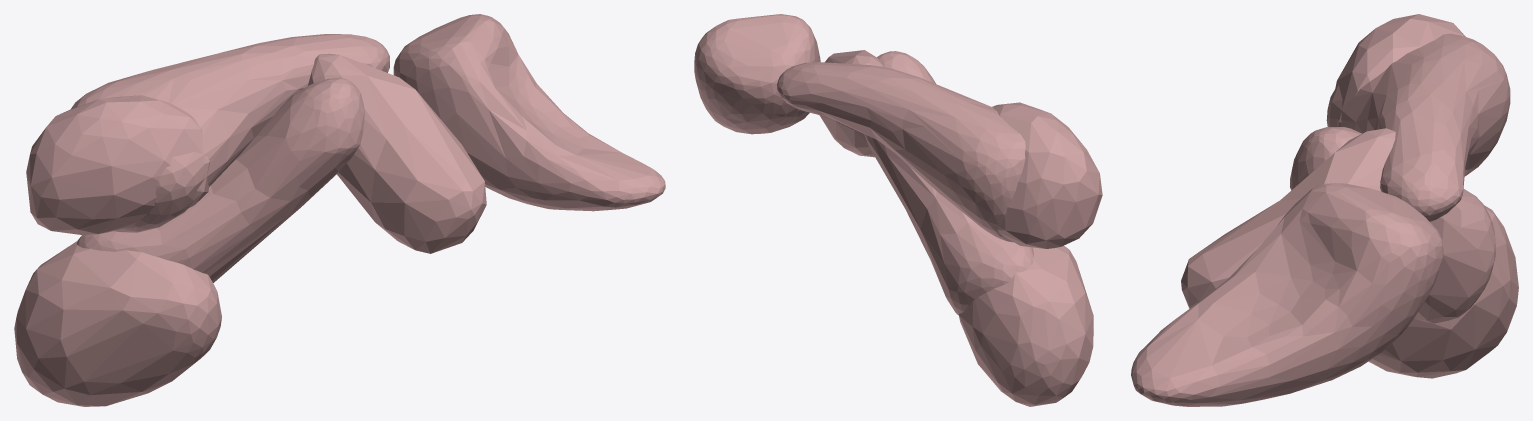
The model's file is Superior_colliculus1.obj.
3 renders of one model, left to right at view 1: azimuth 30°, elevation 25°; view 2: azimuth 150°, elevation 25°; view 3: azimuth 270°, elevation 25°, orthographic. The views are drawn at different scales.
Visible parts, largest first — view 1: obj0; view 2: obj0; view 3: obj0.
Part boxes in pixels (<box>): obj0: <box>14,14,665,406</box>; obj0: <box>694,14,1102,406</box>; obj0: <box>1131,14,1518,406</box>.
Size of the model in its own units: 12.31 by 7.22 by 6.9.
Materials: 1 (1 with a texture image).
